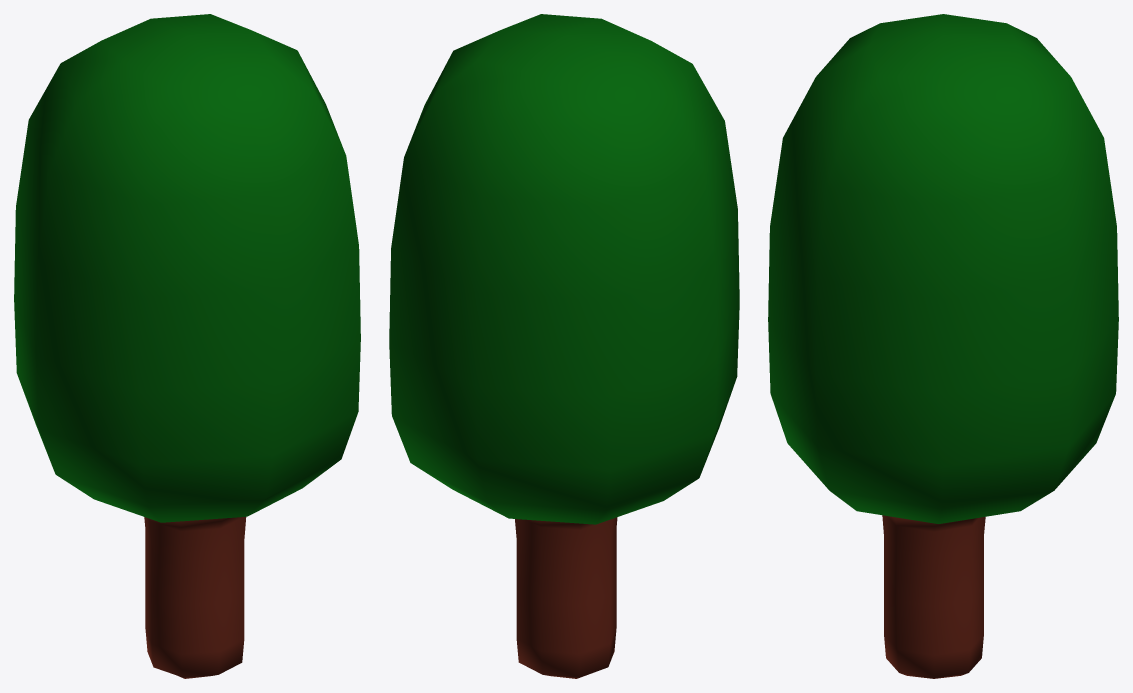
File: lowpolytree.fbx
3 renders of one model, left to right at view 1: azimuth 30°, elevation 25°; view 2: azimuth 150°, elevation 25°; view 3: azimuth 270°, elevation 25°, orthographic.
Parts seen in each view (by area): view 1: Plane; view 2: Plane; view 3: Plane.
Part boxes in pixels (x1=…): Plane: x1=14, y1=14, x2=360, y2=678; Plane: x1=389, y1=14, x2=739, y2=678; Plane: x1=768, y1=14, x2=1118, y2=678.
Size of the model in its own units: 1256 by 2488 by 1256.
